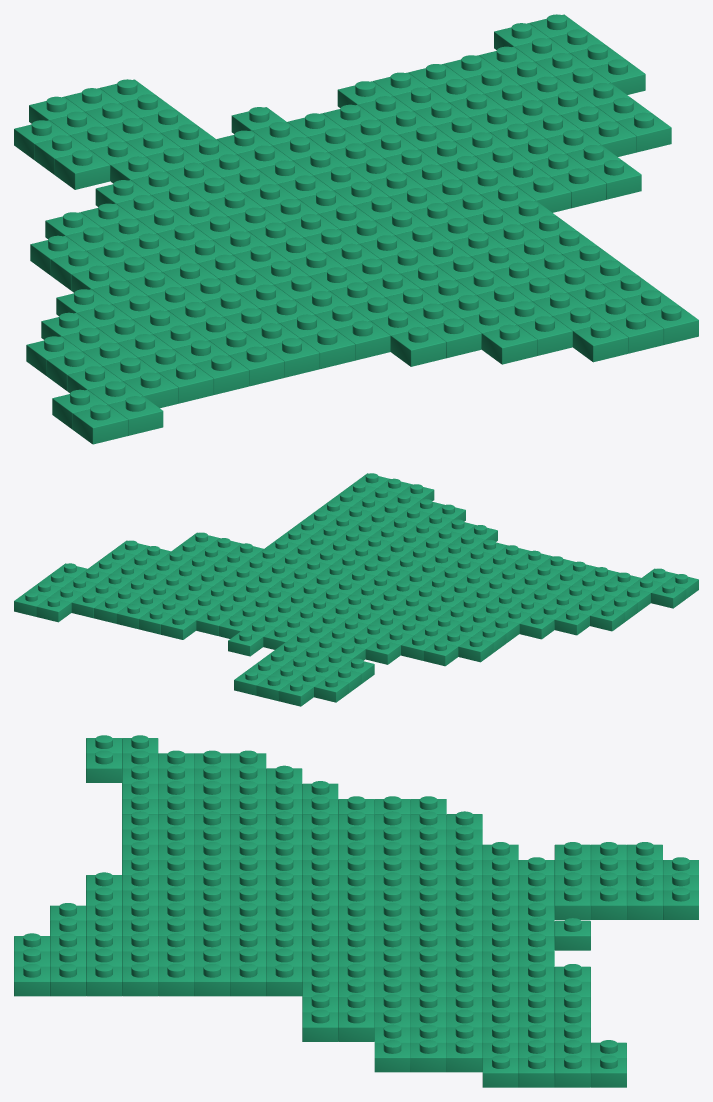
The model's file is EasternUnitedStates.fbx.
The picture shows the model from 3 angles, top to bottom: view 1: azimuth 30°, elevation 25°; view 2: azimuth 150°, elevation 25°; view 3: azimuth 270°, elevation 25°; orthographic projection. The views are drawn at different scales.
Parts seen in each view (by area): view 1: Cylinder_62; view 2: Cylinder_62; view 3: Cylinder_62.
Boxes of the visible parts, <box> form: Cylinder_62: <box>14,14,698,444</box>; Cylinder_62: <box>14,473,698,706</box>; Cylinder_62: <box>14,735,698,1087</box>.
Bounding box in the file's own units: 2200 × 65.03 × 1900.
